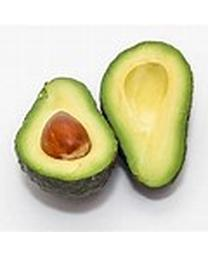avocado: (98, 40, 195, 190), (14, 76, 120, 199)
